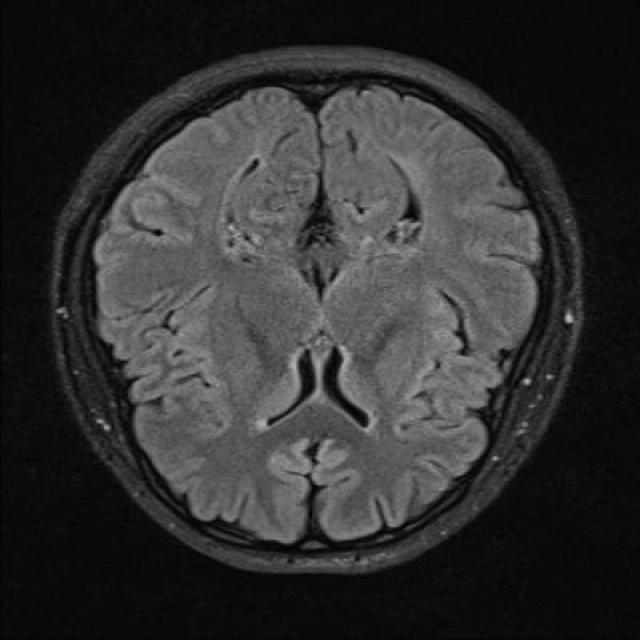notumor: (51, 49, 581, 570)
